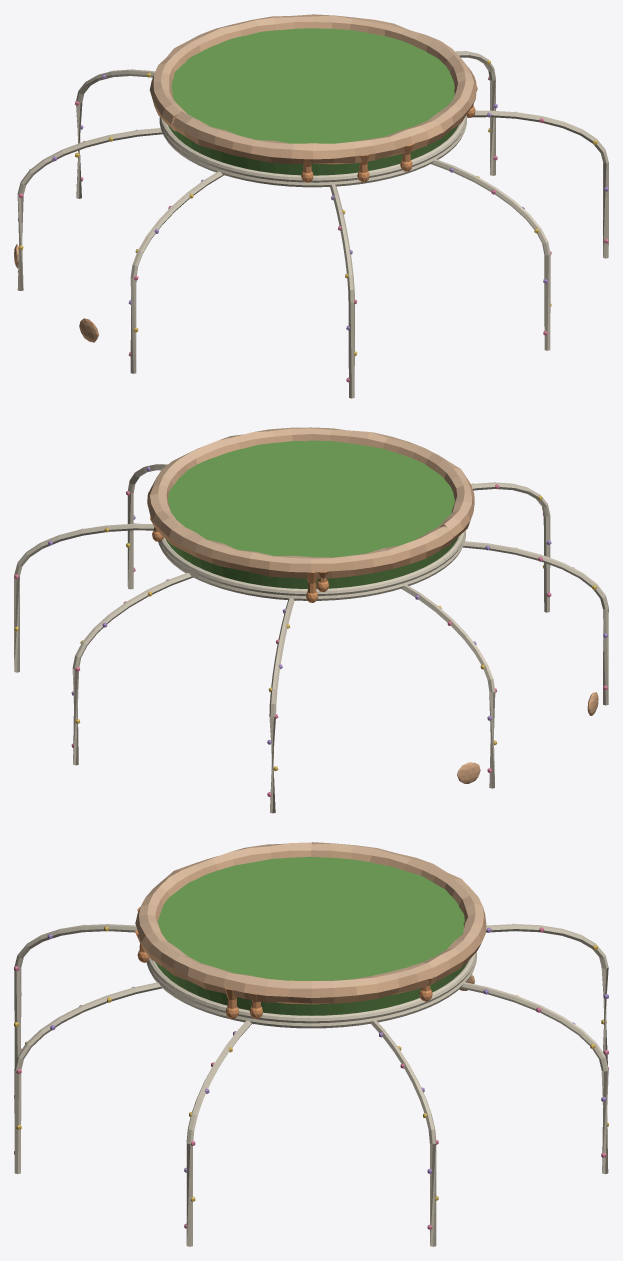
File: goo_jar_trim_1_top@garden.fbx
3 views of the same model, one above another, from view 1: azimuth 30°, elevation 25°; view 2: azimuth 150°, elevation 25°; view 3: azimuth 270°, elevation 25° (orthographic). The views are drawn at different scales.
Parts seen in each view (by area): view 1: goo_jar_trim_1_top; view 2: goo_jar_trim_1_top; view 3: goo_jar_trim_1_top.
Boxes of the visible parts, left/top/right/bottom form: goo_jar_trim_1_top: left=14, top=14, right=608, bottom=398; goo_jar_trim_1_top: left=14, top=427, right=608, bottom=813; goo_jar_trim_1_top: left=14, top=842, right=608, bottom=1246.
Bounding box in the file's own units: 60.36 × 22.69 × 58.37.
